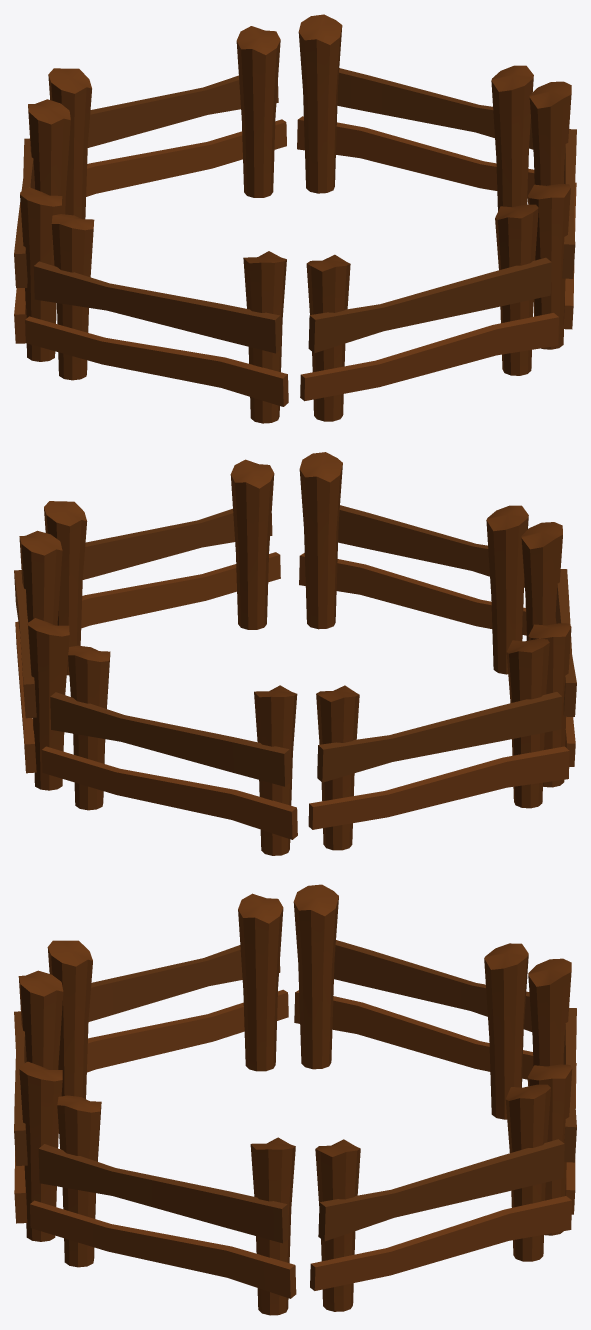
Rendered from Fence.fbx.
The picture shows the model from 3 angles, top to bottom: view 1: azimuth 30°, elevation 25°; view 2: azimuth 150°, elevation 25°; view 3: azimuth 270°, elevation 25°; orthographic projection. The views are drawn at different scales.
Visible parts, largest first — view 1: Fence; view 2: Fence; view 3: Fence.
Part boxes in pixels (x1,y1,x2,y2): Fence: (14,14,576,423); Fence: (14,452,576,855); Fence: (14,884,576,1315).
Size of the model in its own units: 3.97 by 1.12 by 3.37.
Materials: 1 (1 with a texture image).
